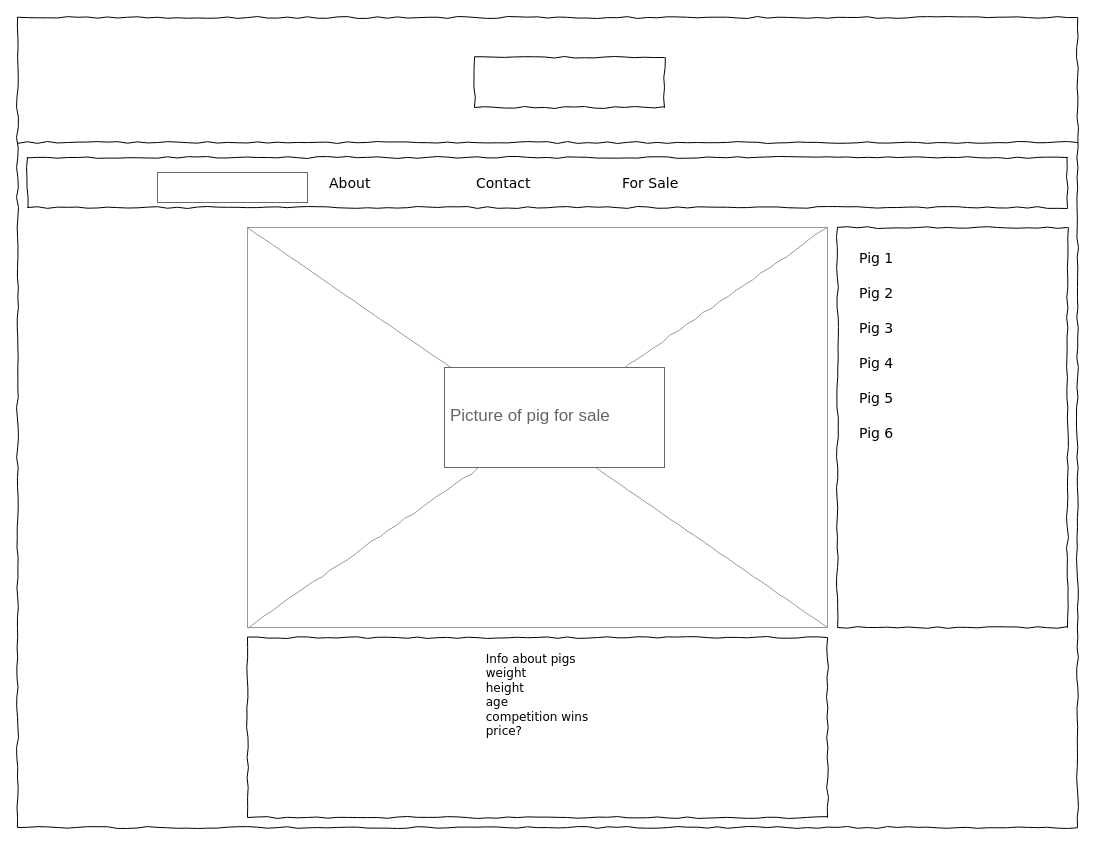
The diagram is 1095 pixels wide and 845 high, and some of its shapes have lost their labels. Each missing label, with the centre of its shape:
Home: the point at 232,187
LOGO: the point at 569,82
